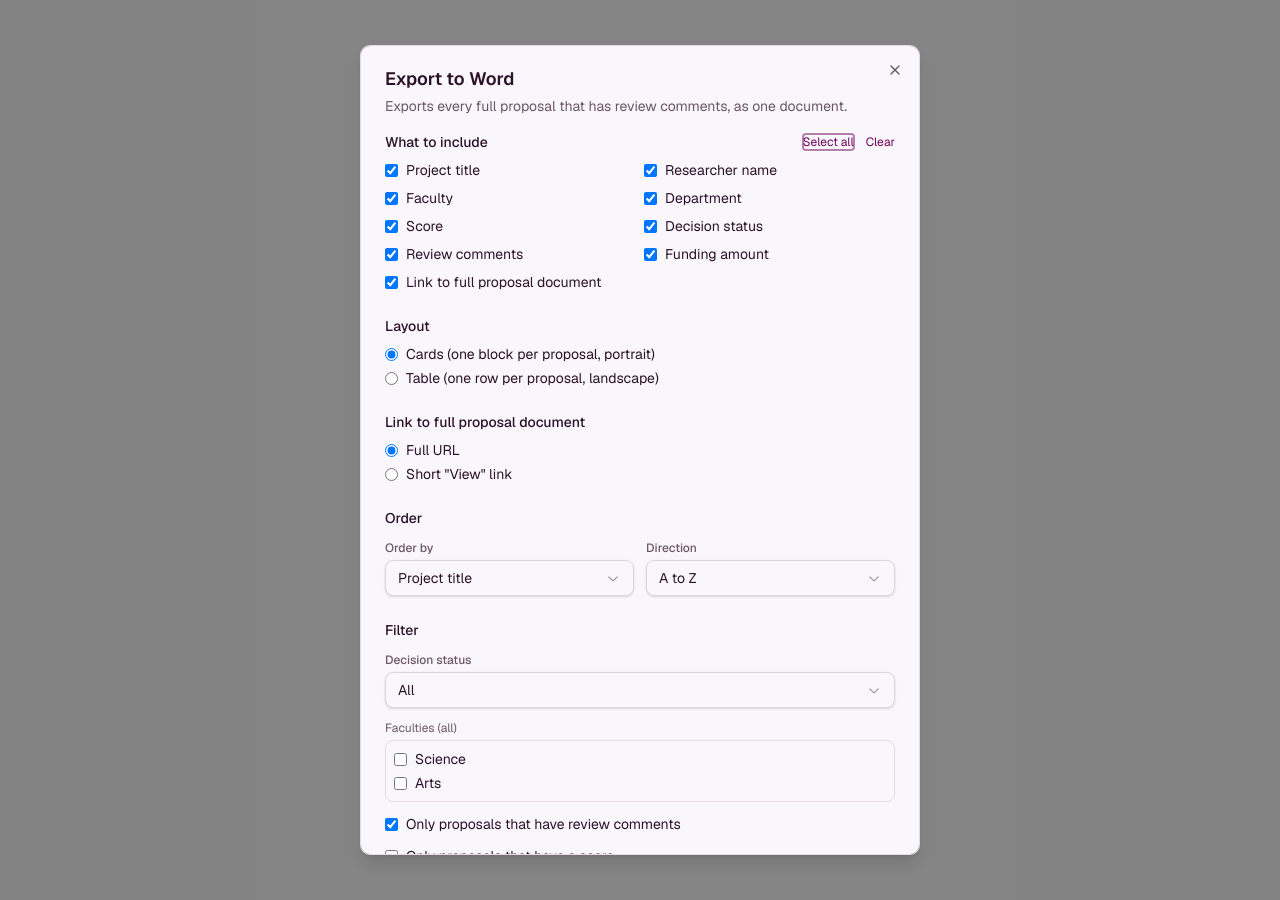
Test: FullProposalExportDialog › disables export when no field is selected
Click the button "Clear": (880, 142) [866,134,895,150]
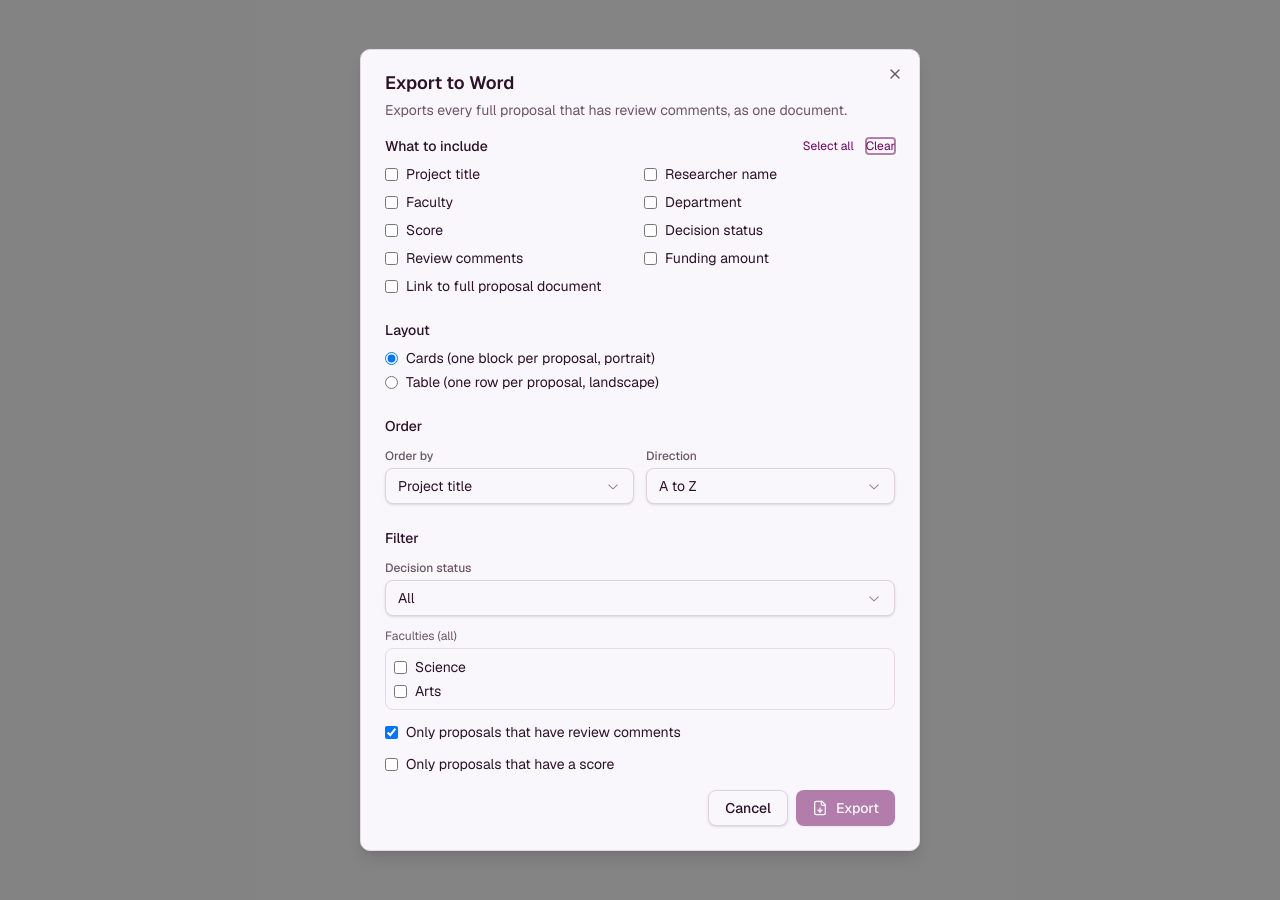
Expected: the button "Export" is disabled, [796,790,895,826]
